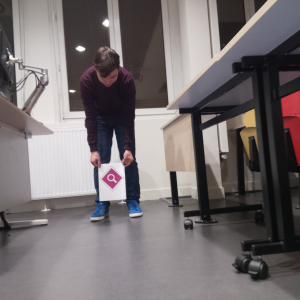search: (101, 168, 123, 190)
